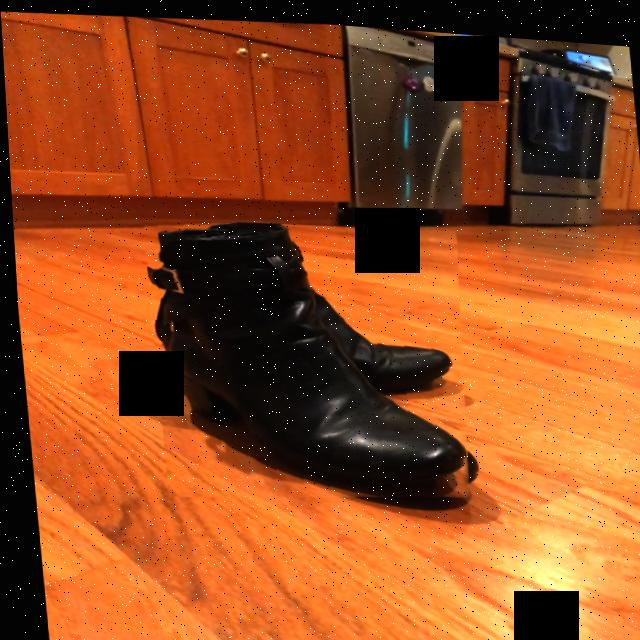shoe: (144, 218, 465, 494)
